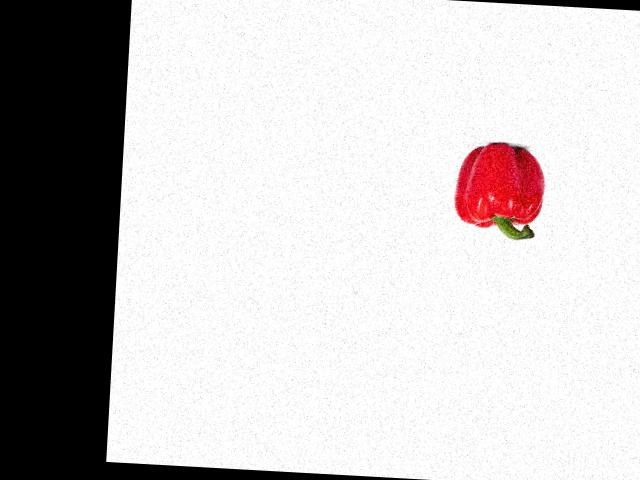bell_pepper: (447, 141, 549, 243)
